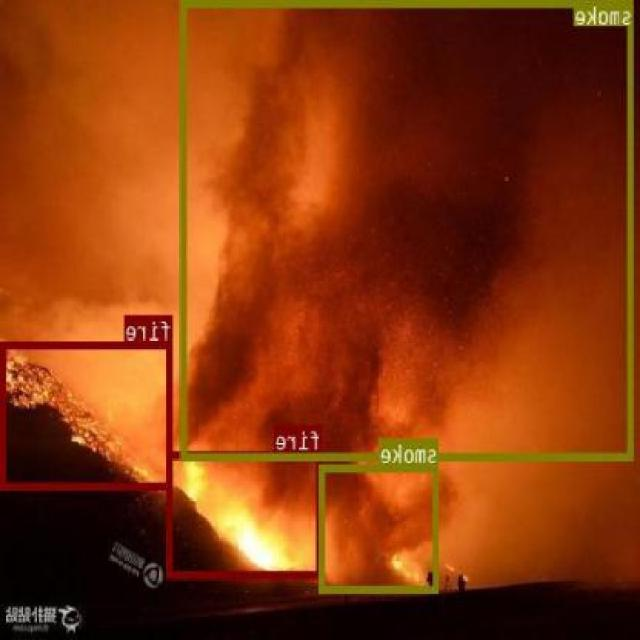Fire: (135, 432, 387, 594)
Smoke: (150, 0, 632, 490)
